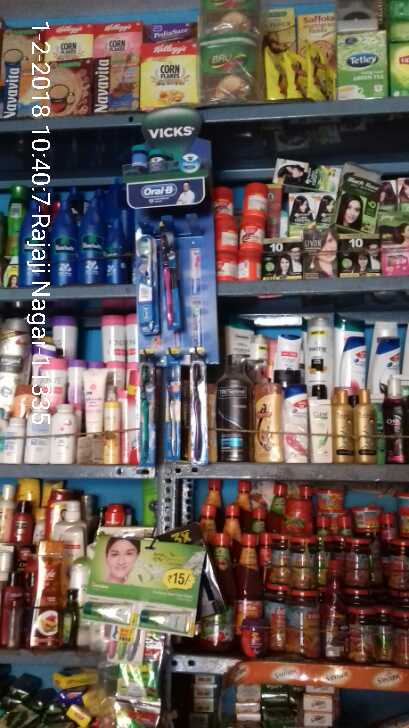oralb: (134, 233, 161, 336), (187, 347, 209, 464), (159, 228, 184, 329), (163, 343, 182, 458), (139, 348, 156, 467)
